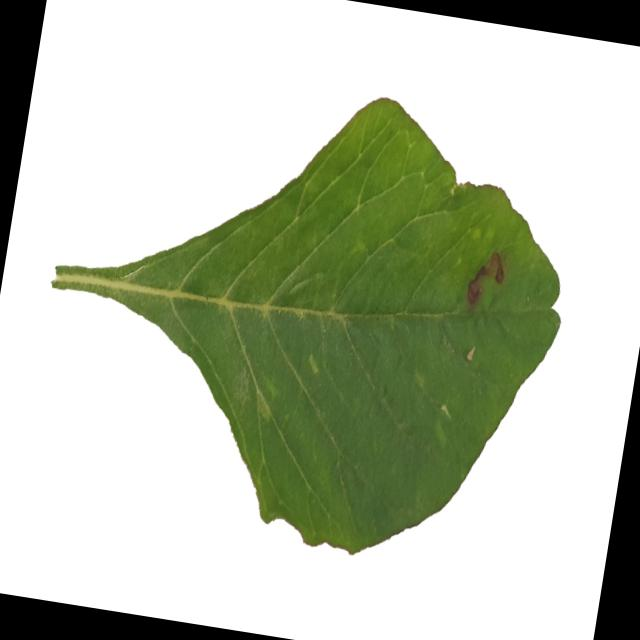Medicinal-Arive Dantu: (19, 50, 591, 582)
